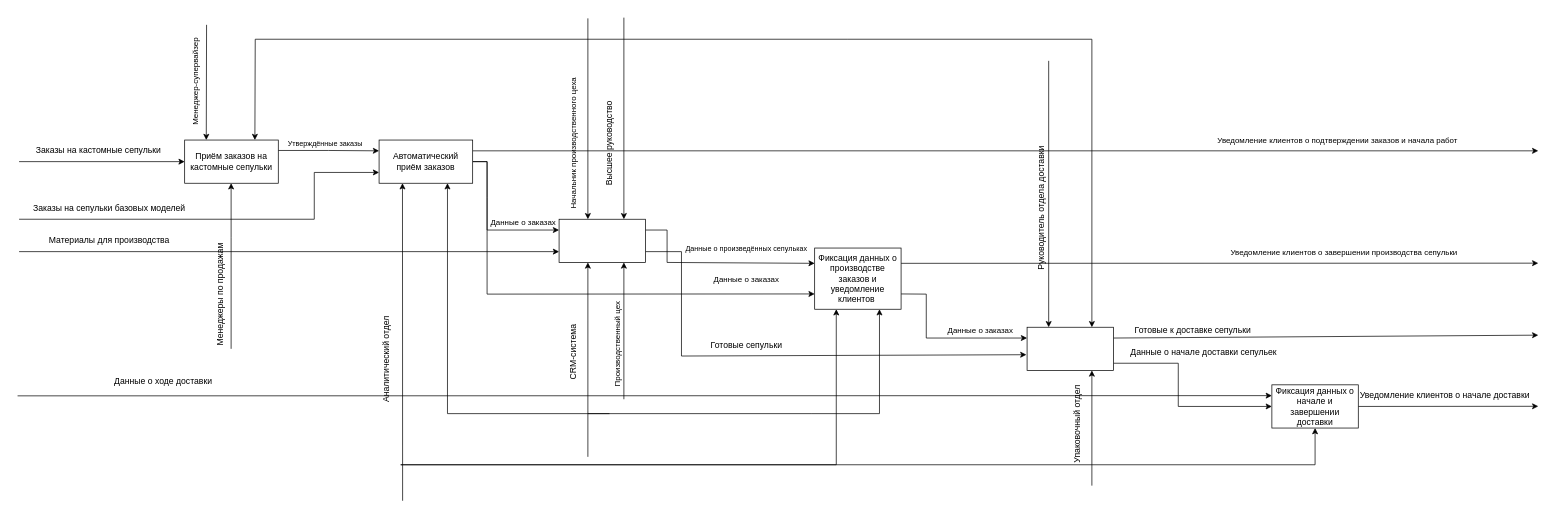
The diagram is 1557 pixels wide and 519 high, and some of its shapes have lost their labels. The centre of each missing label's shape, as x and y in pixels:
Изготовление сепулек: [601,240]
Упаковка и доставка: [1069,348]
